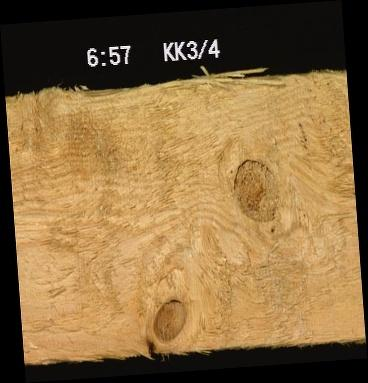dry_knot: (229, 155, 280, 224), (148, 296, 188, 341)
wave: (47, 83, 146, 105)
